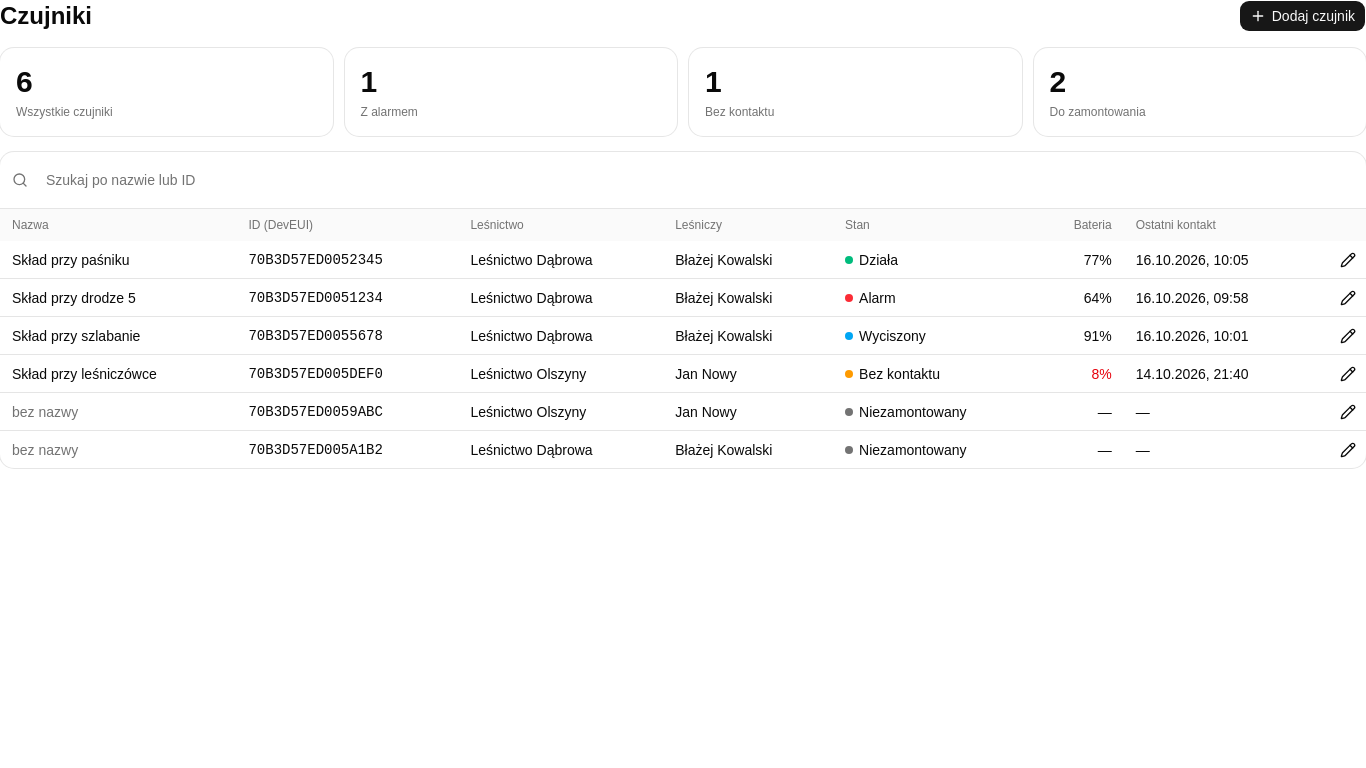
Test case: SensorsPage › rejects an ID that is not 16 hex characters
Expected: the text "Skład przy drodze 5" is shown, [0, 278, 236, 316]
Click the button "Dodaj czujnik": x=1302, y=16 [1239, 0, 1365, 32]
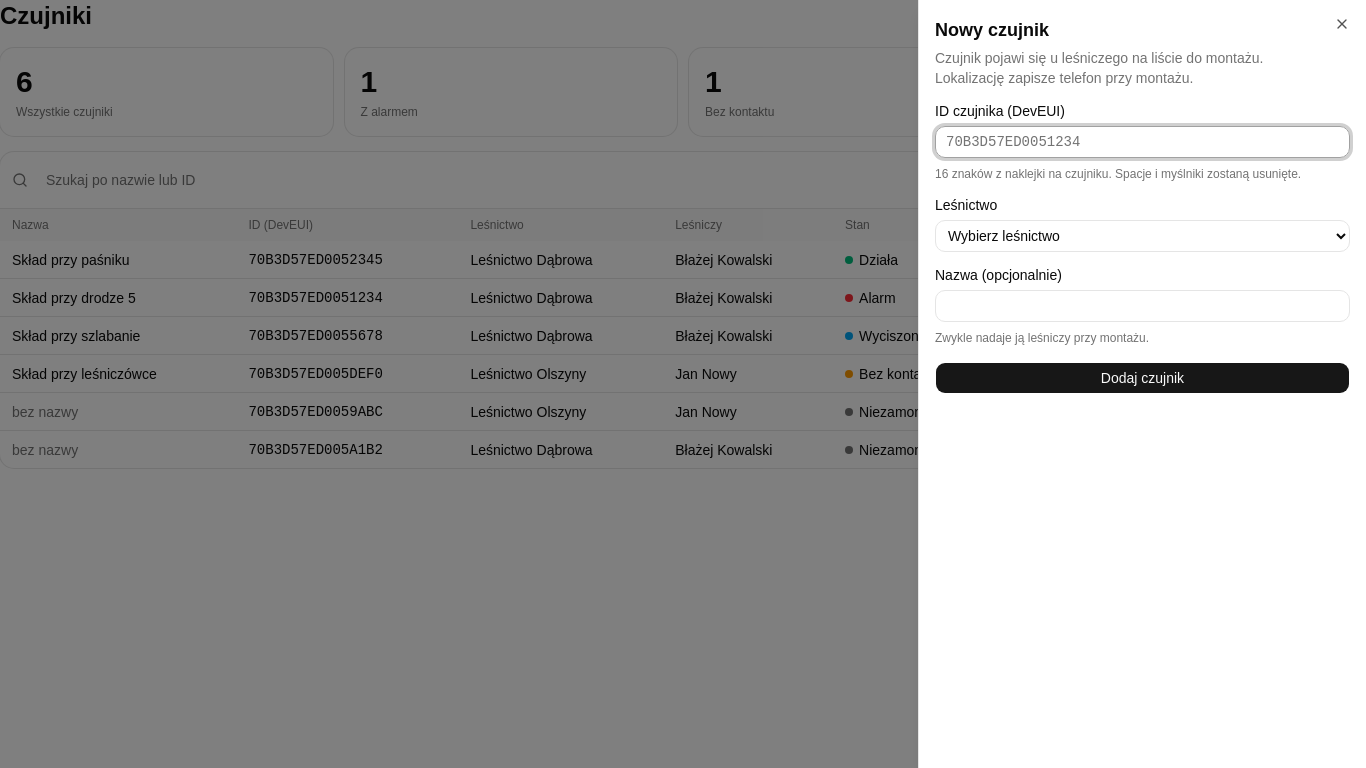
In the field labelled "ID czujnika (DevEUI)": x=1142, y=142 [935, 126, 1350, 158], type "70B3D57ED00"
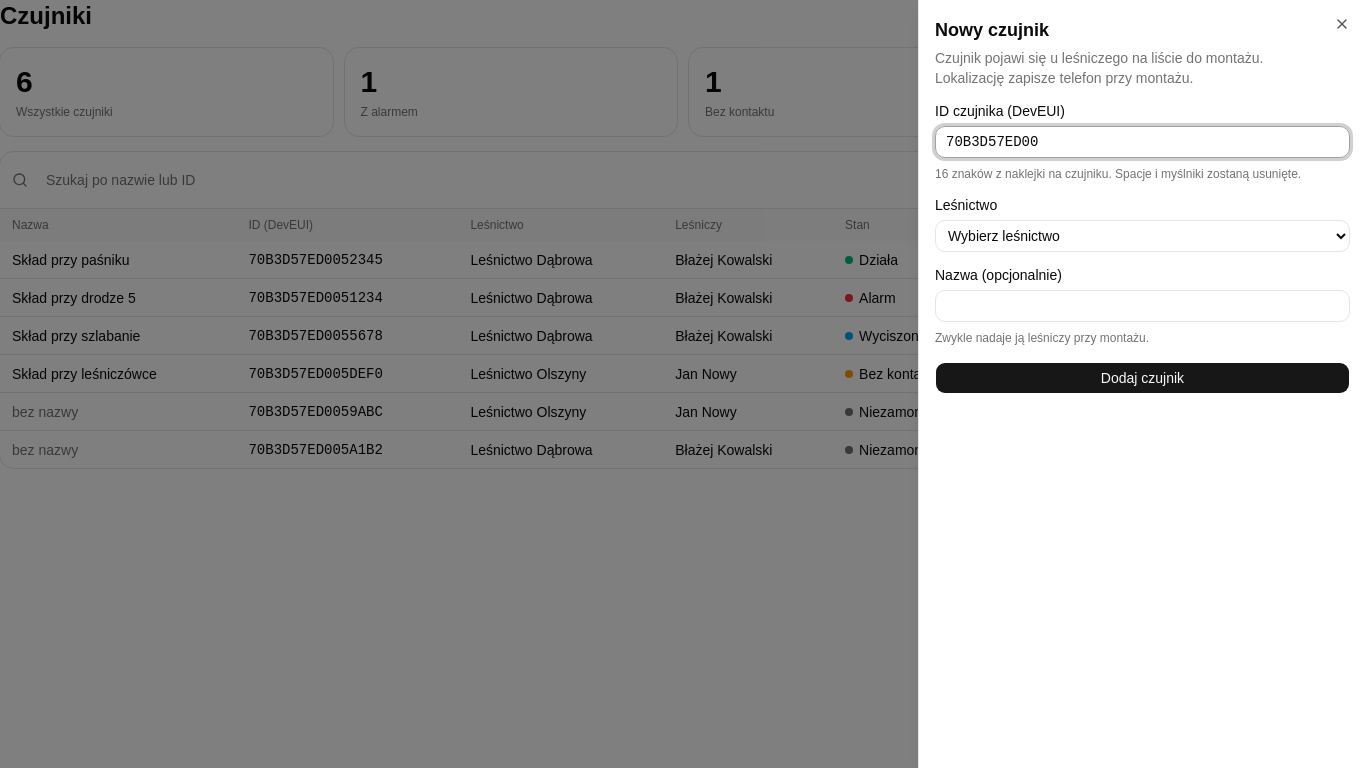
Select "Leśnictwo Olszyny · Jan Nowy" in the dropdown labelled "Leśnictwo": x=1142, y=236 [935, 220, 1350, 252]
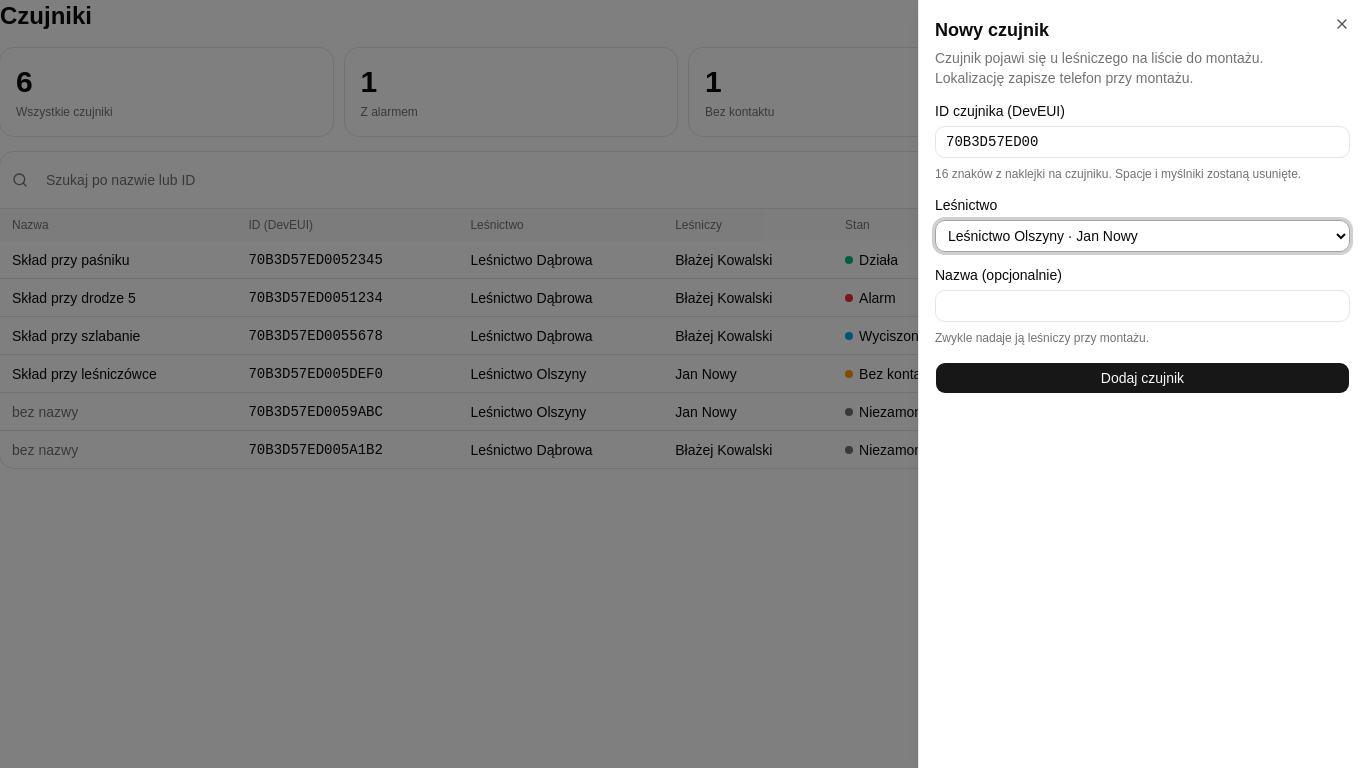
Click the button "Dodaj czujnik": x=1142, y=378 [935, 362, 1350, 394]
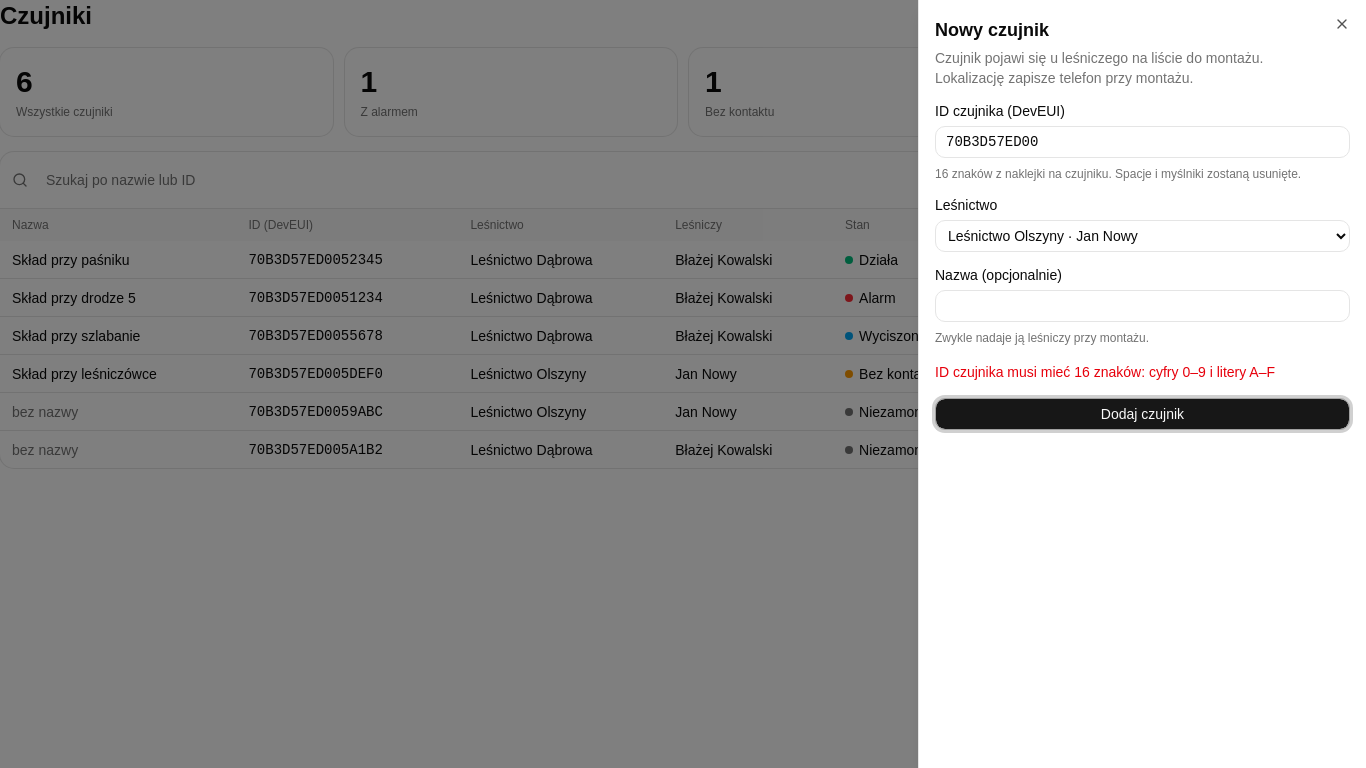
Expected: the message shows "ID czujnika musi mieć 16 znaków", [935, 364, 1275, 380]
